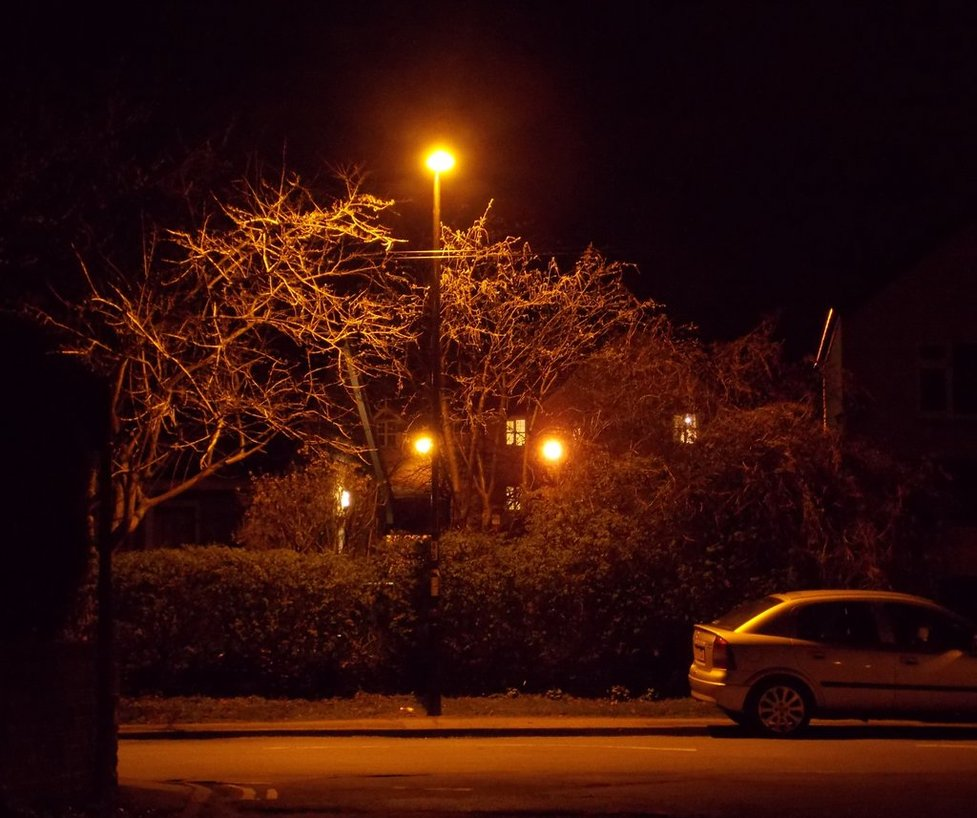car: (679, 582, 977, 749)
